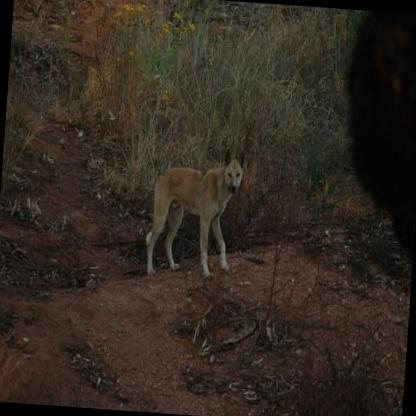dingo: (142, 136, 248, 282)
